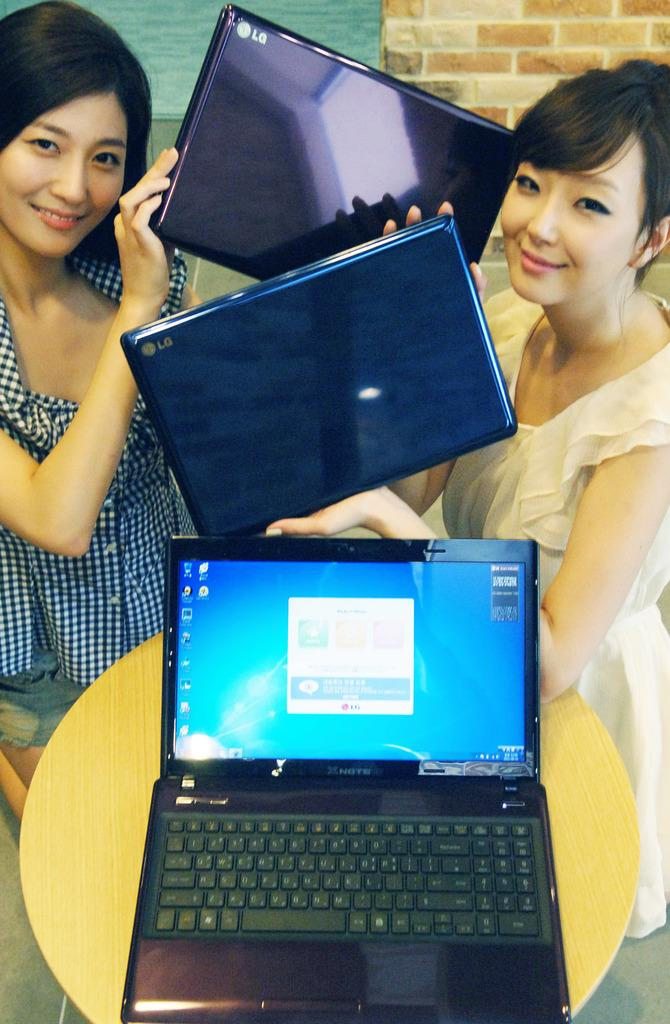Laptop: (102, 534, 573, 1009), (116, 217, 519, 537), (148, 5, 520, 284)
